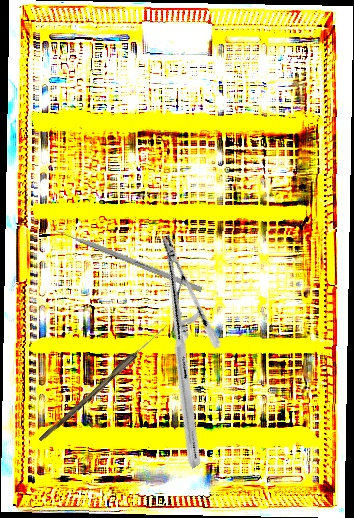Needle Holder: (72, 234, 290, 469)
Pusher: (44, 223, 204, 293)
Surgical Spoon: (38, 321, 170, 445)
